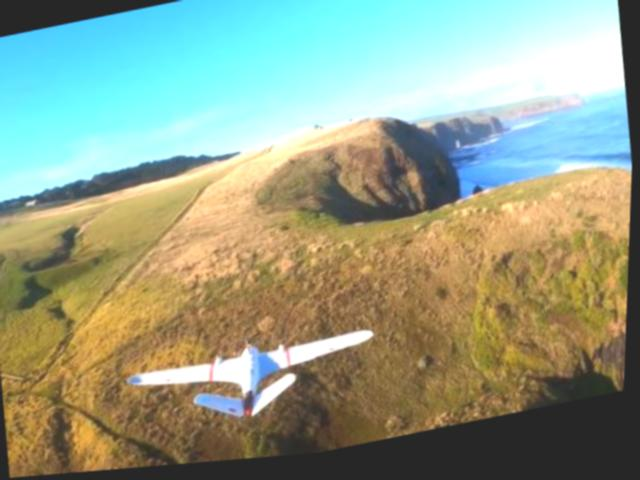uav: (127, 330, 385, 441)
